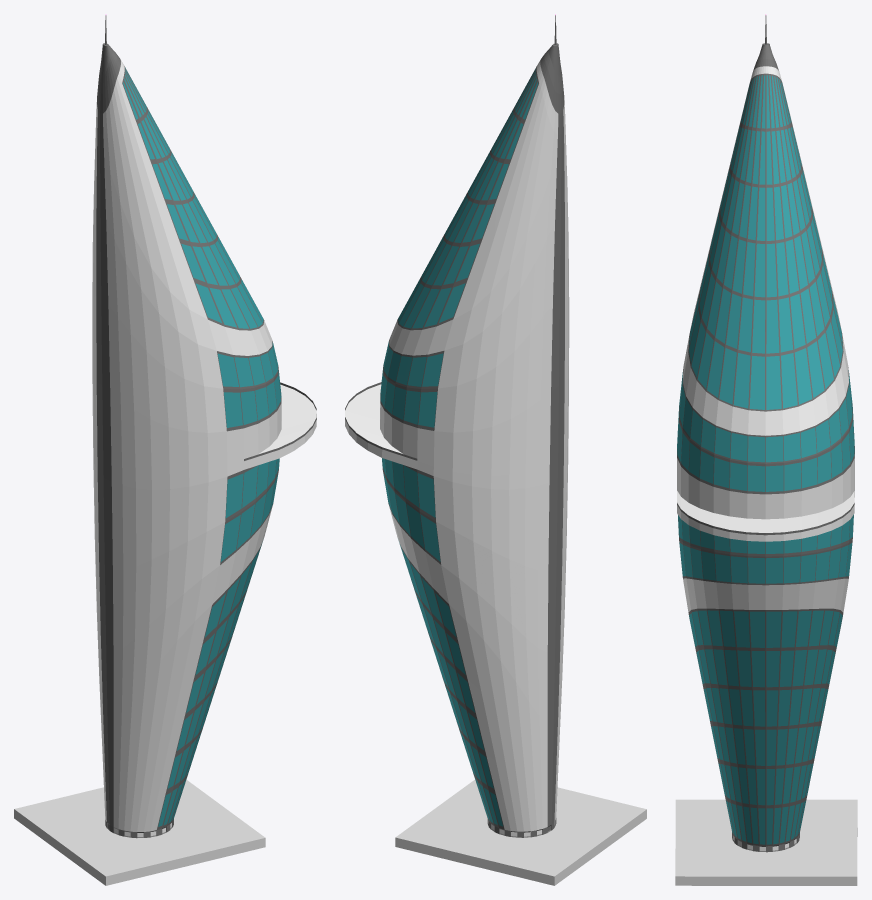
The model's file is Building2.glb.
The picture shows the model from 3 angles, left to right: view 1: azimuth 30°, elevation 25°; view 2: azimuth 150°, elevation 25°; view 3: azimuth 270°, elevation 25°; orthographic projection.
Parts seen in each view (by area): view 1: Circle.003; view 2: Circle.003; view 3: Circle.003.
Boxes of the visible parts, box(x1,y1,x2,y2) form: Circle.003: box(14, 14, 316, 885); Circle.003: box(345, 14, 646, 885); Circle.003: box(675, 14, 857, 885).
Size of the model in its own units: 6.55 by 21.12 by 4.27.
